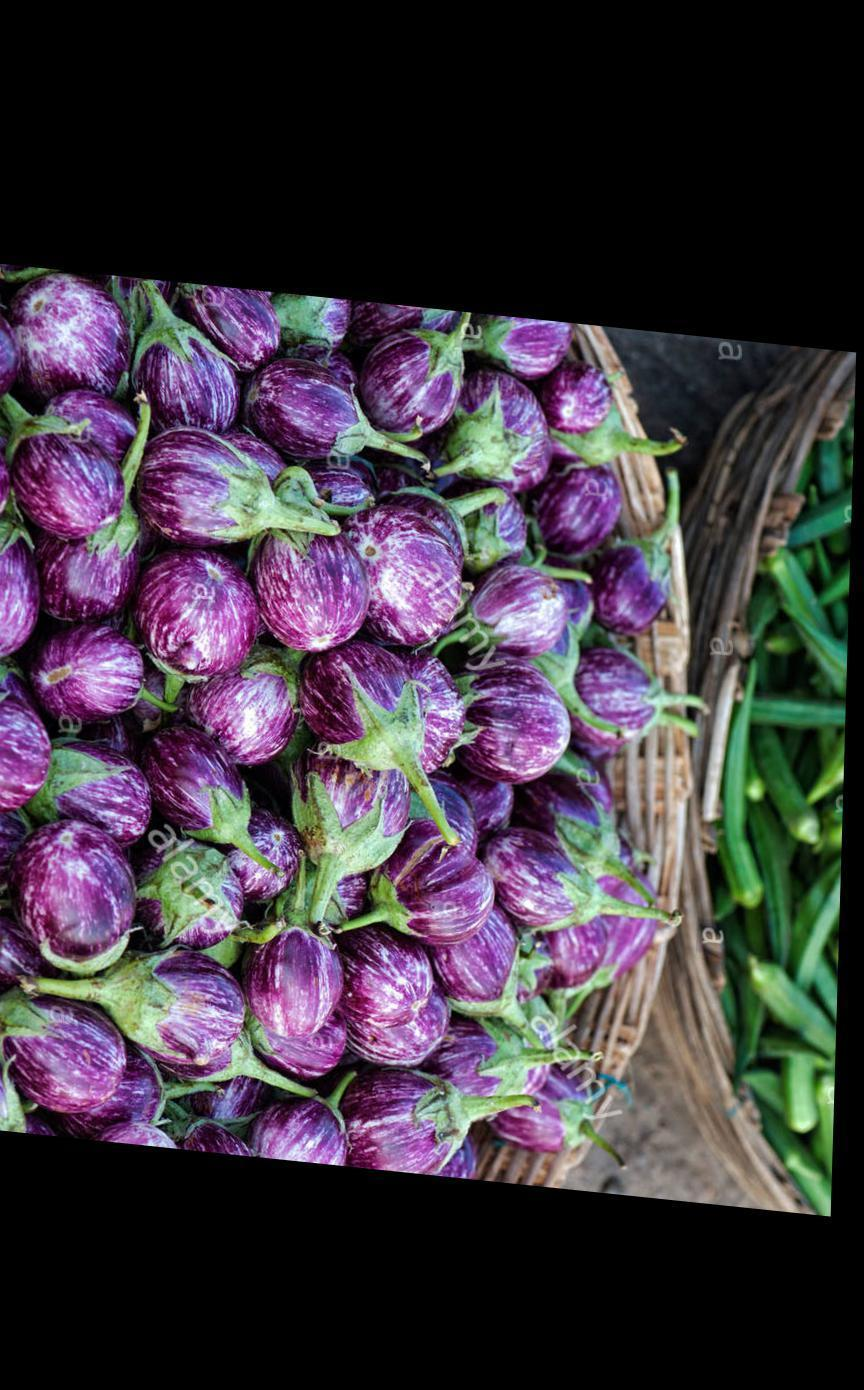eggplant: (0, 310, 588, 1088)
